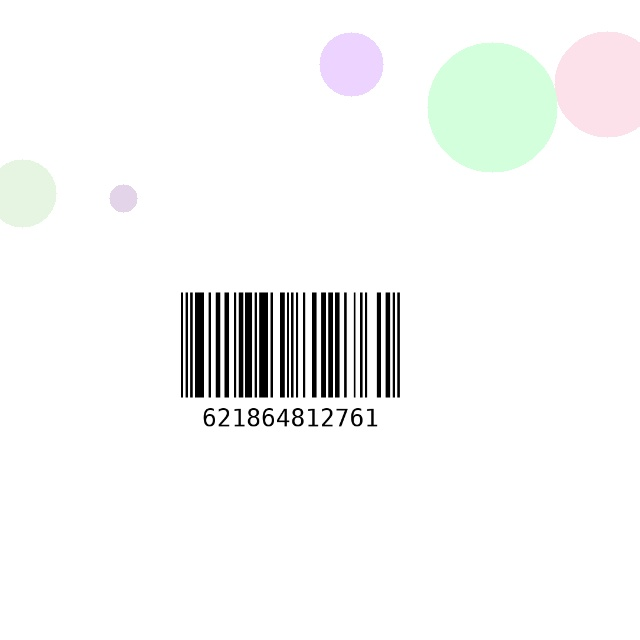barcode: (136, 286, 445, 451)
